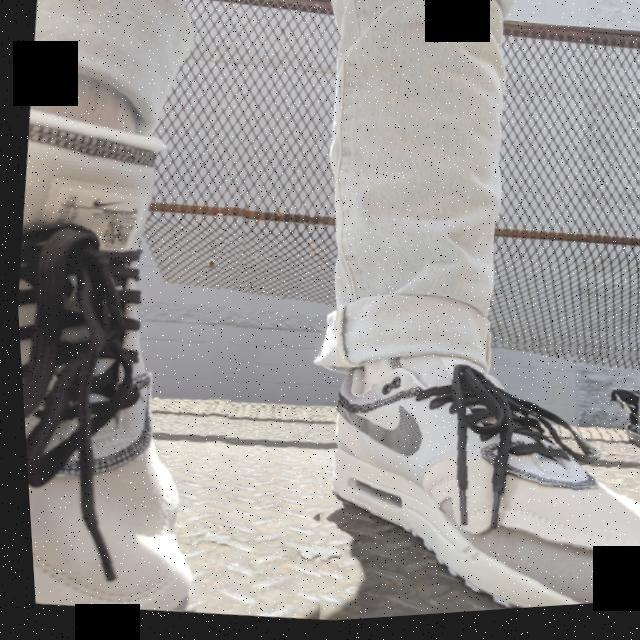shoe: (6, 118, 271, 626), (278, 311, 640, 626)
